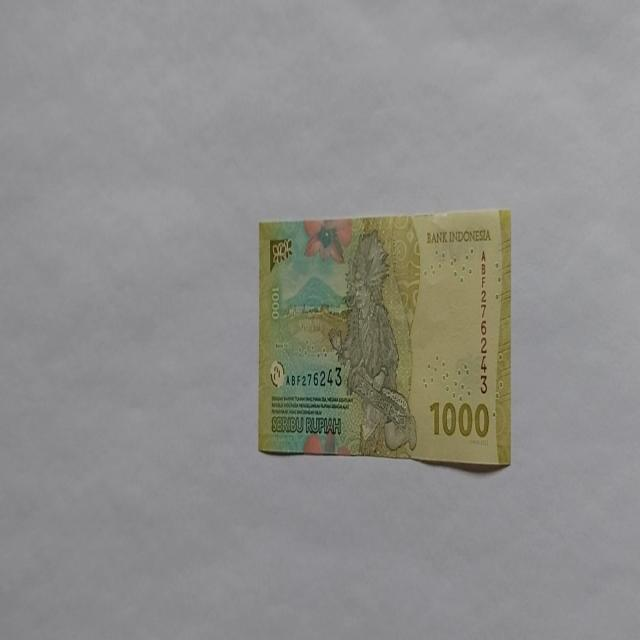seribu rupiah kertas: (257, 208, 512, 468)
